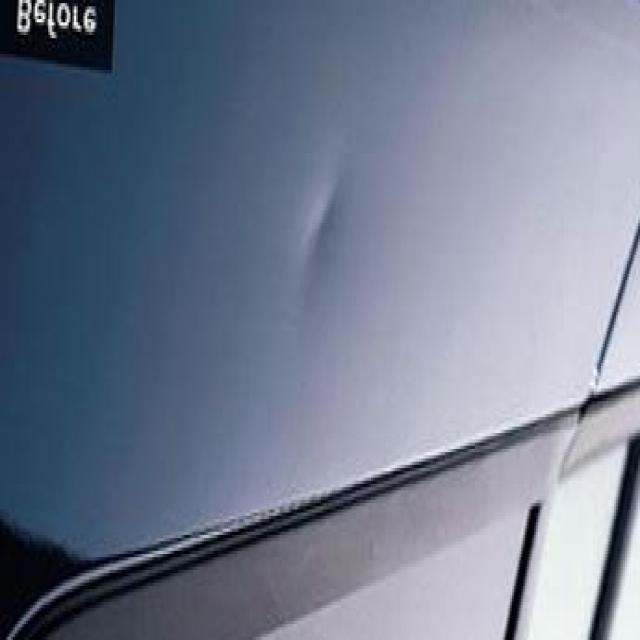dent: (296, 143, 356, 290)
